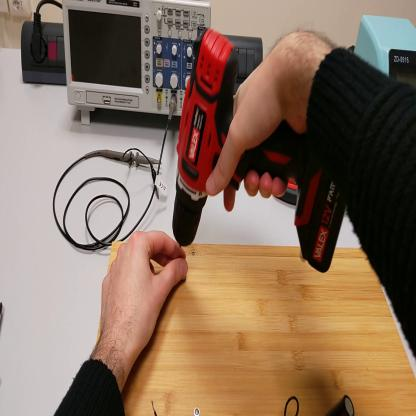electric screwdriver: (172, 33, 344, 275)
hand: (206, 38, 308, 215), (98, 231, 189, 360)
high voltage board: (150, 394, 356, 413)
oscilloscope: (62, 1, 212, 132)
oscilloscope probe tip: (97, 149, 163, 171)
pliers: (281, 181, 302, 209), (2, 303, 4, 330)
socket: (22, 21, 70, 88)
welder station: (352, 16, 416, 88)
working area: (96, 241, 416, 416)
